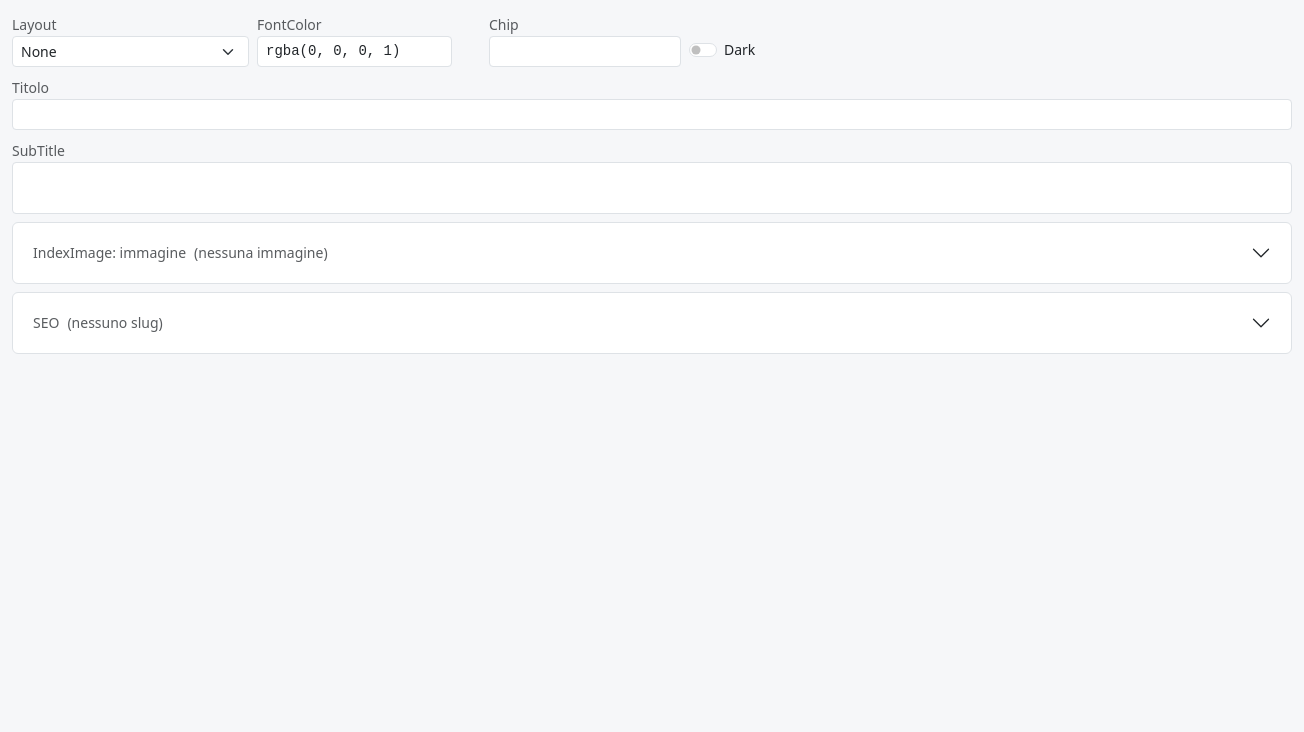
Scenario: HeaderEditor › bottone copia da Image disabilitato senza Image
Click the button "IndexImage: immagine (nessuna immagine)": point(110, 252) x1=13 y1=227 x2=1291 y2=279
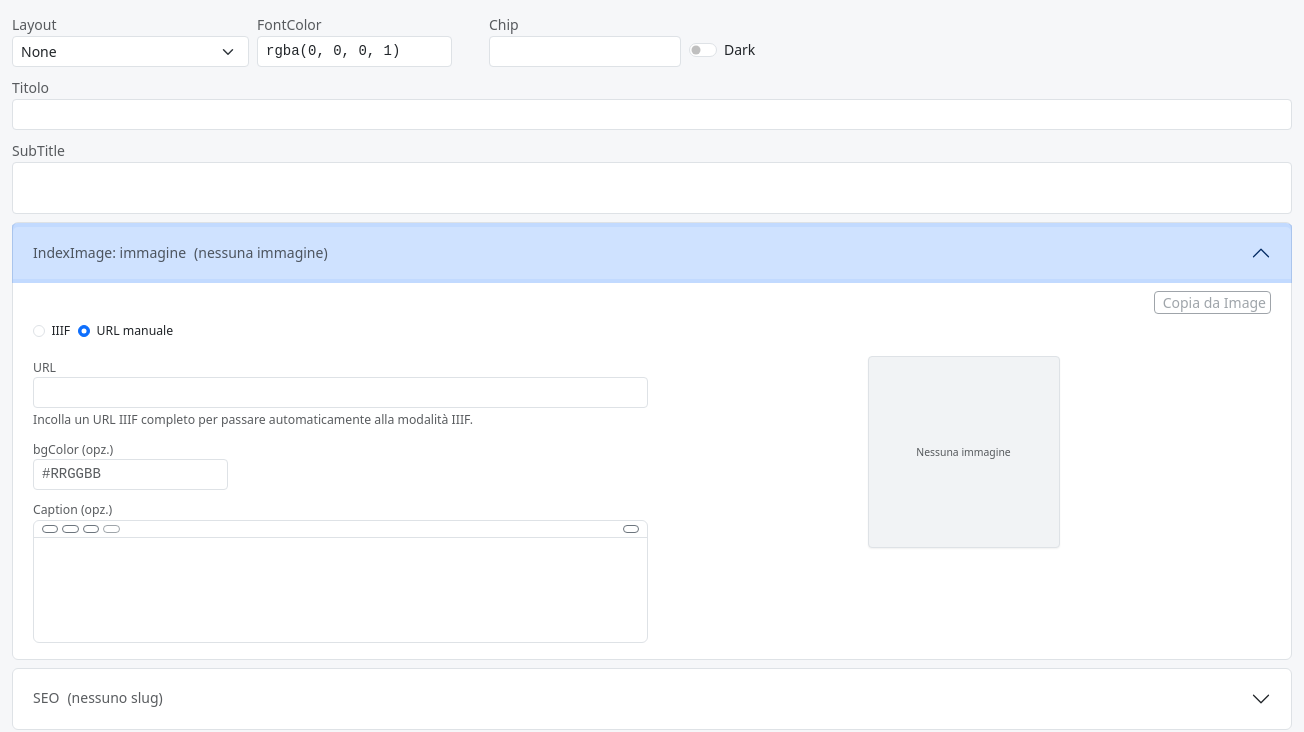
expect the button "Copia da Image" is disabled: met, box x1=1154 y1=291 x2=1271 y2=314
